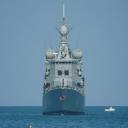Fragata: (43, 7, 86, 116)
